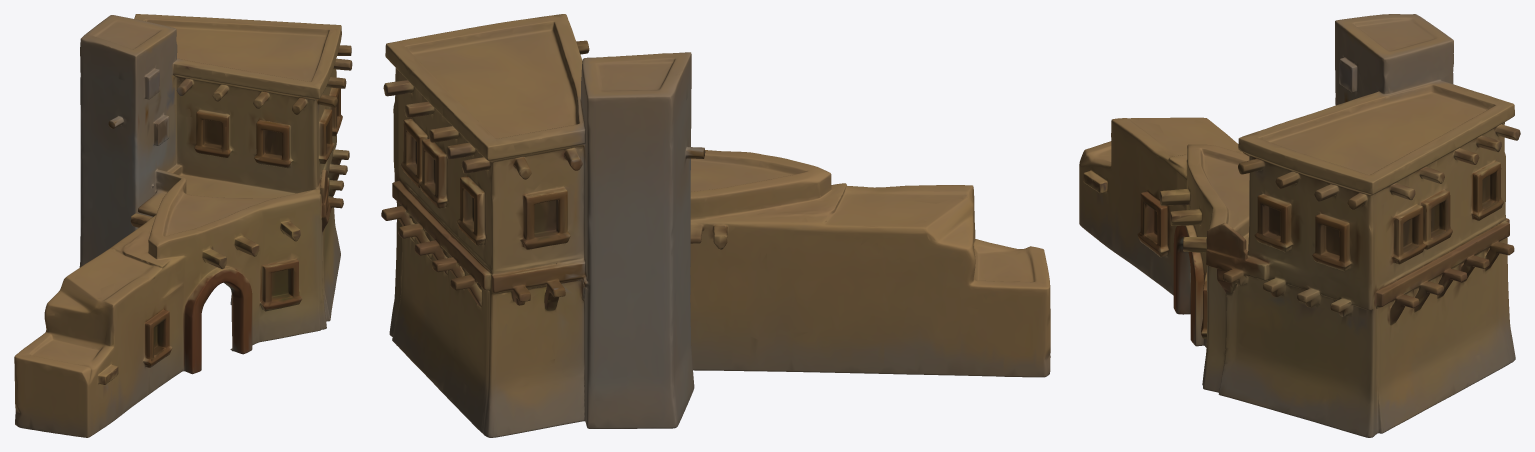
The model's file is building-5.fbx.
The picture shows the model from 3 angles, left to right: view 1: azimuth 30°, elevation 25°; view 2: azimuth 150°, elevation 25°; view 3: azimuth 270°, elevation 25°; orthographic projection. The views are drawn at different scales.
Parts seen in each view (by area): view 1: image_Stylized_architectural_model_of_a_building_Hunyuan_3D_; view 2: image_Stylized_architectural_model_of_a_building_Hunyuan_3D_; view 3: image_Stylized_architectural_model_of_a_building_Hunyuan_3D_.
Part boxes in pixels (x1,y1,x2,y2): image_Stylized_architectural_model_of_a_building_Hunyuan_3D_: [14, 14, 352, 437]; image_Stylized_architectural_model_of_a_building_Hunyuan_3D_: [381, 14, 1050, 437]; image_Stylized_architectural_model_of_a_building_Hunyuan_3D_: [1079, 14, 1520, 437].
Size of the model in its own units: 5167 by 3061 by 4116.
